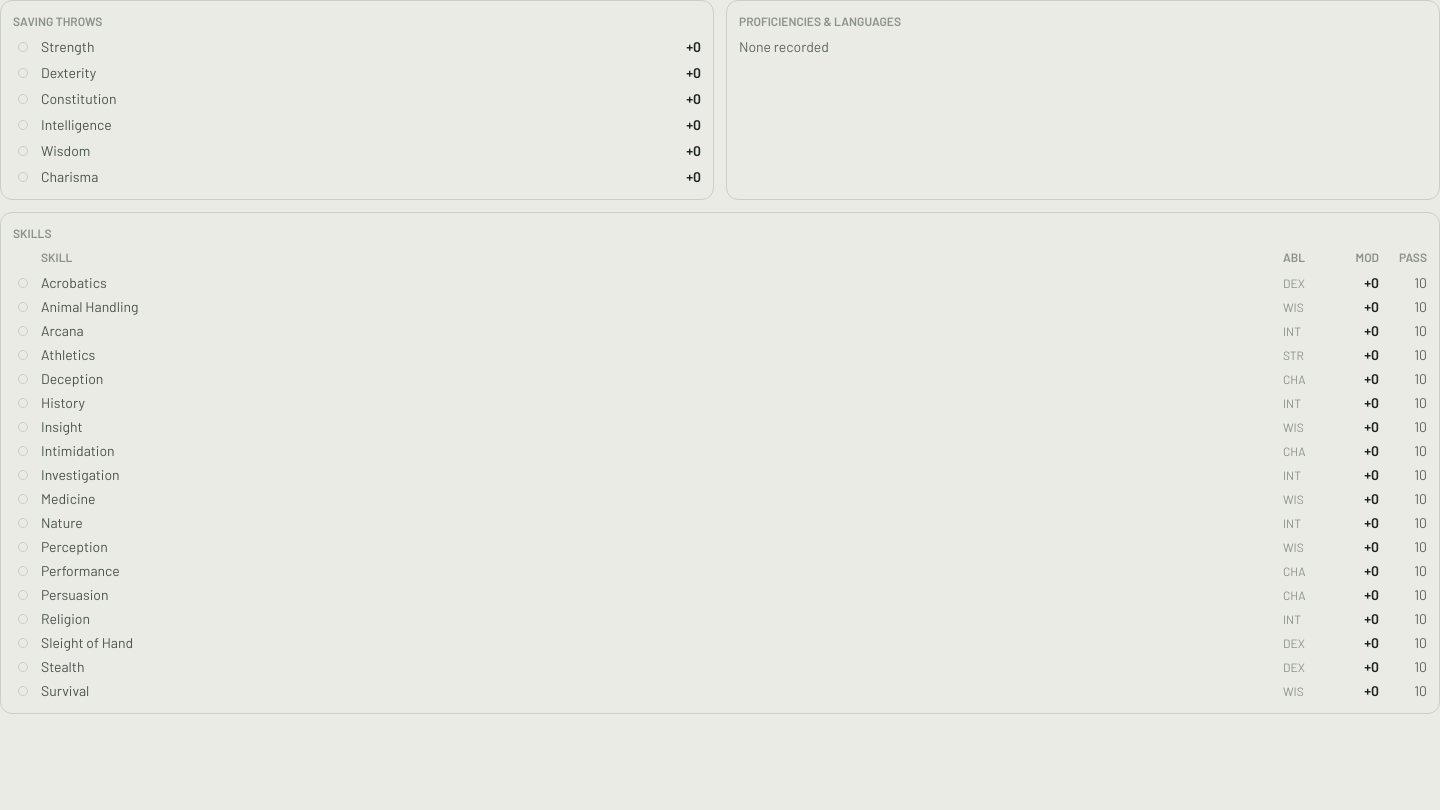
AbilitiesTab › announces the current skill proficiency level
Click the button named "stealth proficiency": (23, 667) [13,657,33,677]
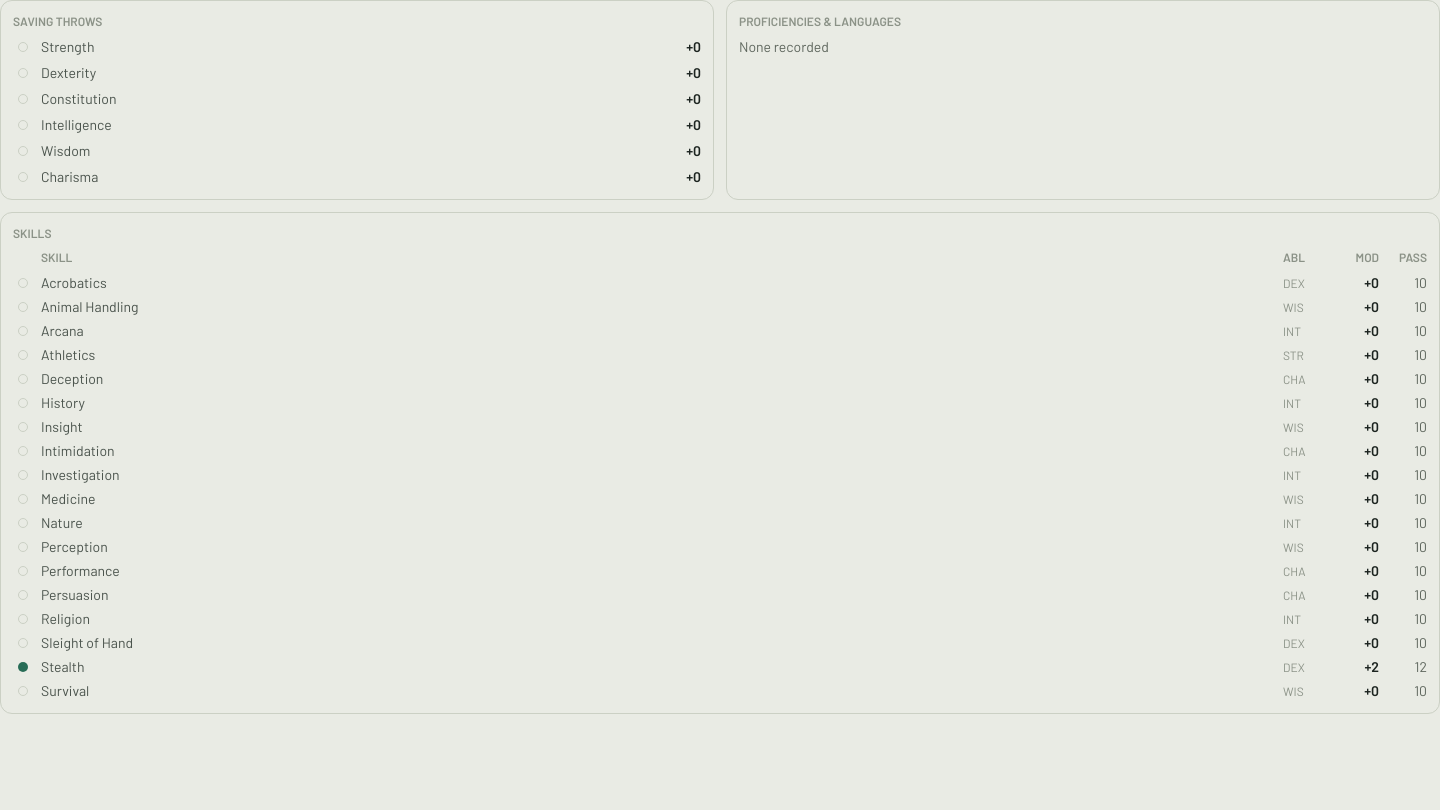
Expected: the button named "Stealth proficiency: proficient" is shown, [13,657,33,677]
